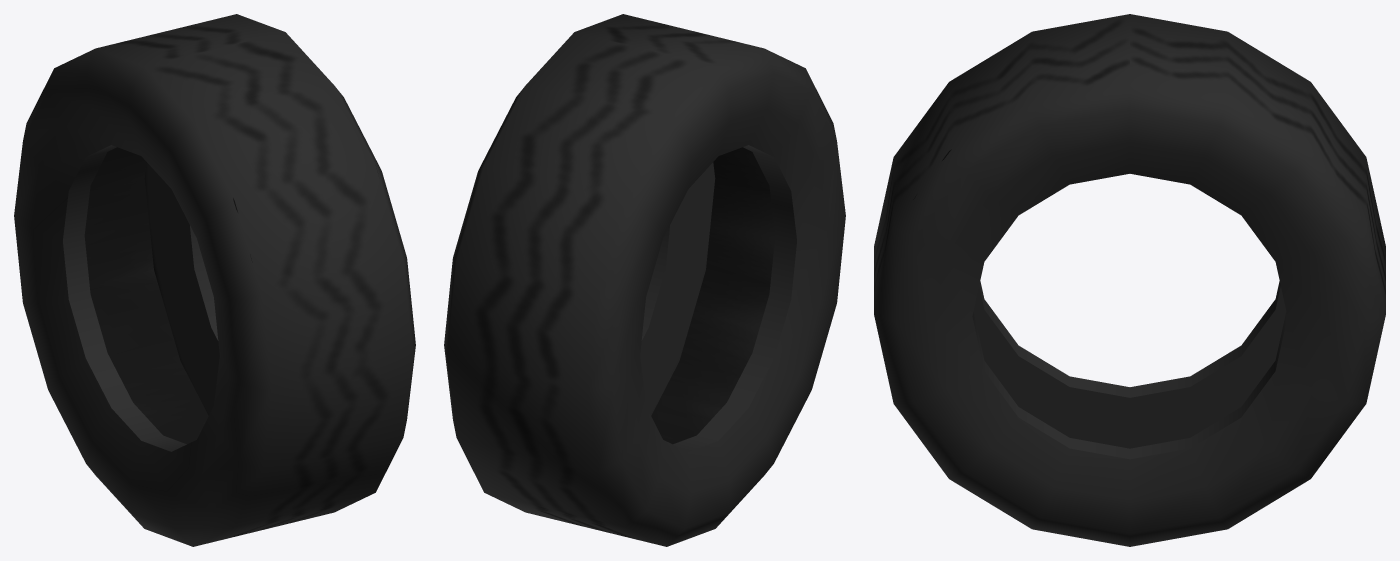
The model's file is Tire.fbx.
3 renders of one model, left to right at view 1: azimuth 30°, elevation 25°; view 2: azimuth 150°, elevation 25°; view 3: azimuth 270°, elevation 25°, orthographic.
Visible parts, largest first — view 1: TireCartoon; view 2: TireCartoon; view 3: TireCartoon.
Part boxes in pixels (x1,y1,x2,y2): TireCartoon: (14, 14, 415, 546); TireCartoon: (444, 14, 845, 546); TireCartoon: (874, 14, 1385, 546).
Size of the model in its own units: 76.45 by 200 by 200.
